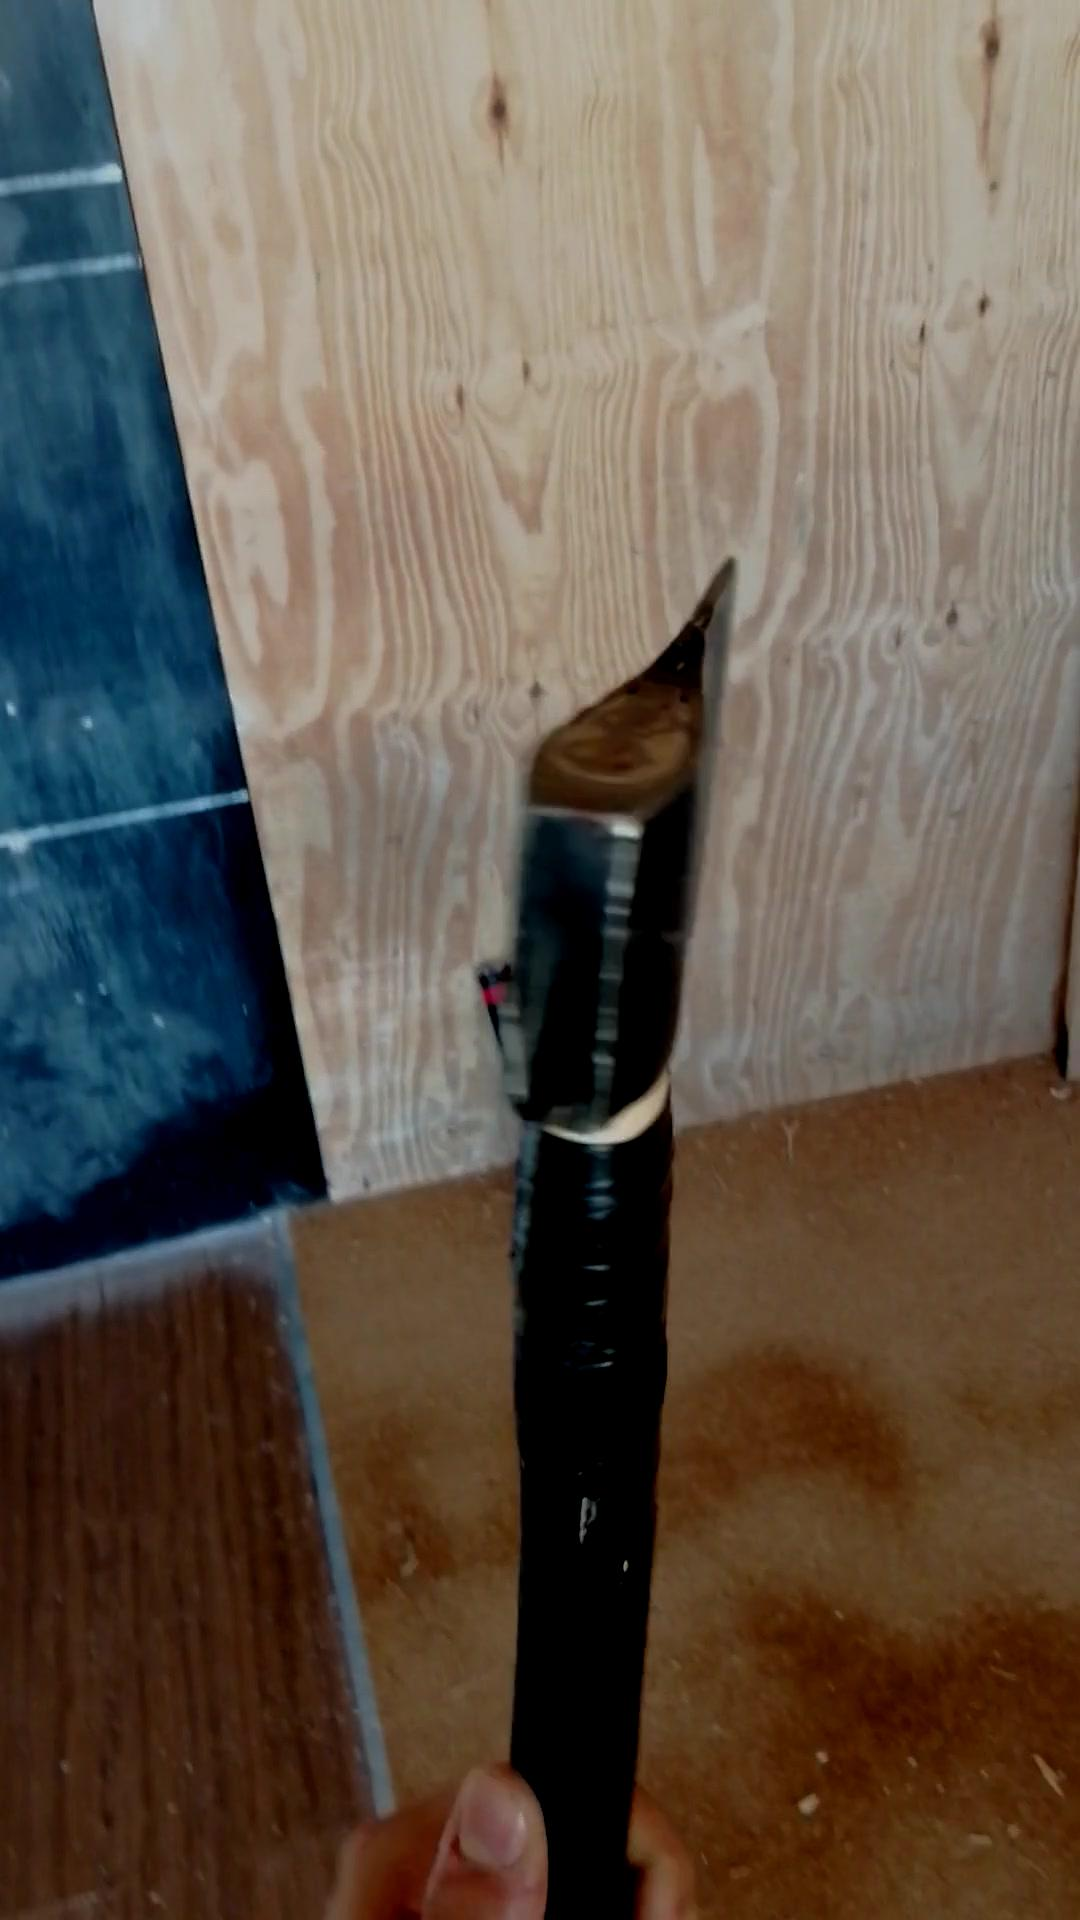Hand Axe: (513, 553, 740, 1125)
